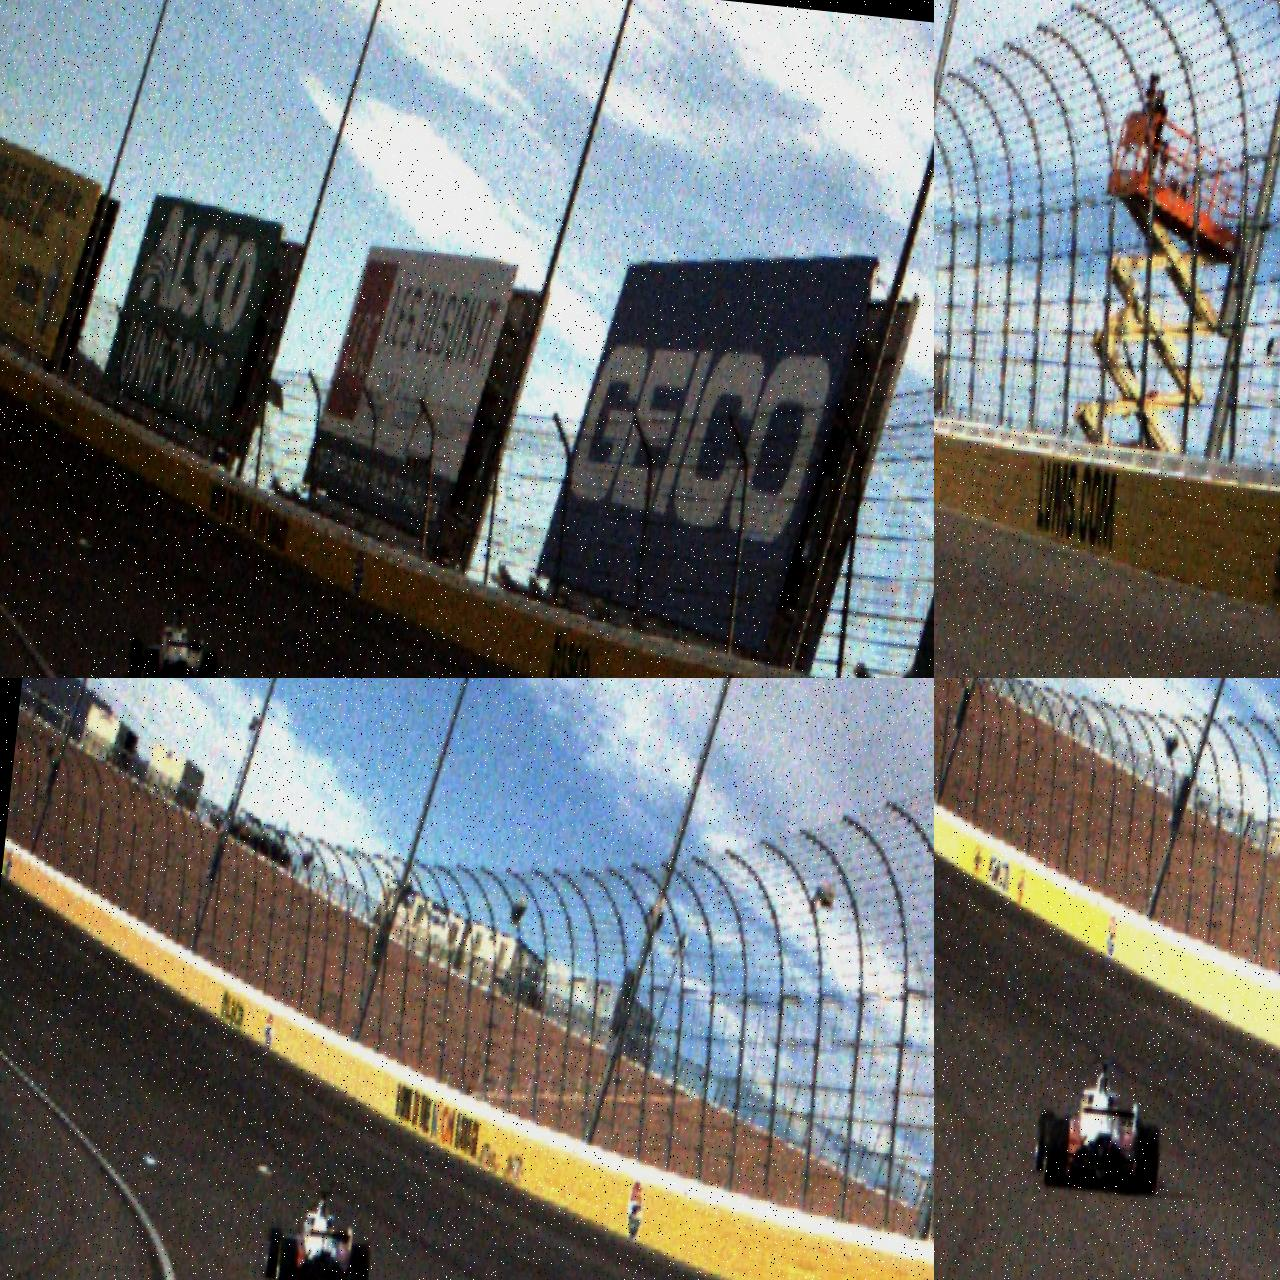AV: (1032, 1053, 1167, 1198), (261, 1184, 377, 1280), (125, 602, 224, 678)
Wheel: (1135, 1123, 1162, 1197), (1042, 1117, 1070, 1187), (1034, 1109, 1055, 1173), (273, 1237, 300, 1280), (263, 1227, 282, 1280), (346, 1242, 372, 1280), (127, 638, 145, 678), (139, 648, 159, 678), (198, 651, 219, 678)
